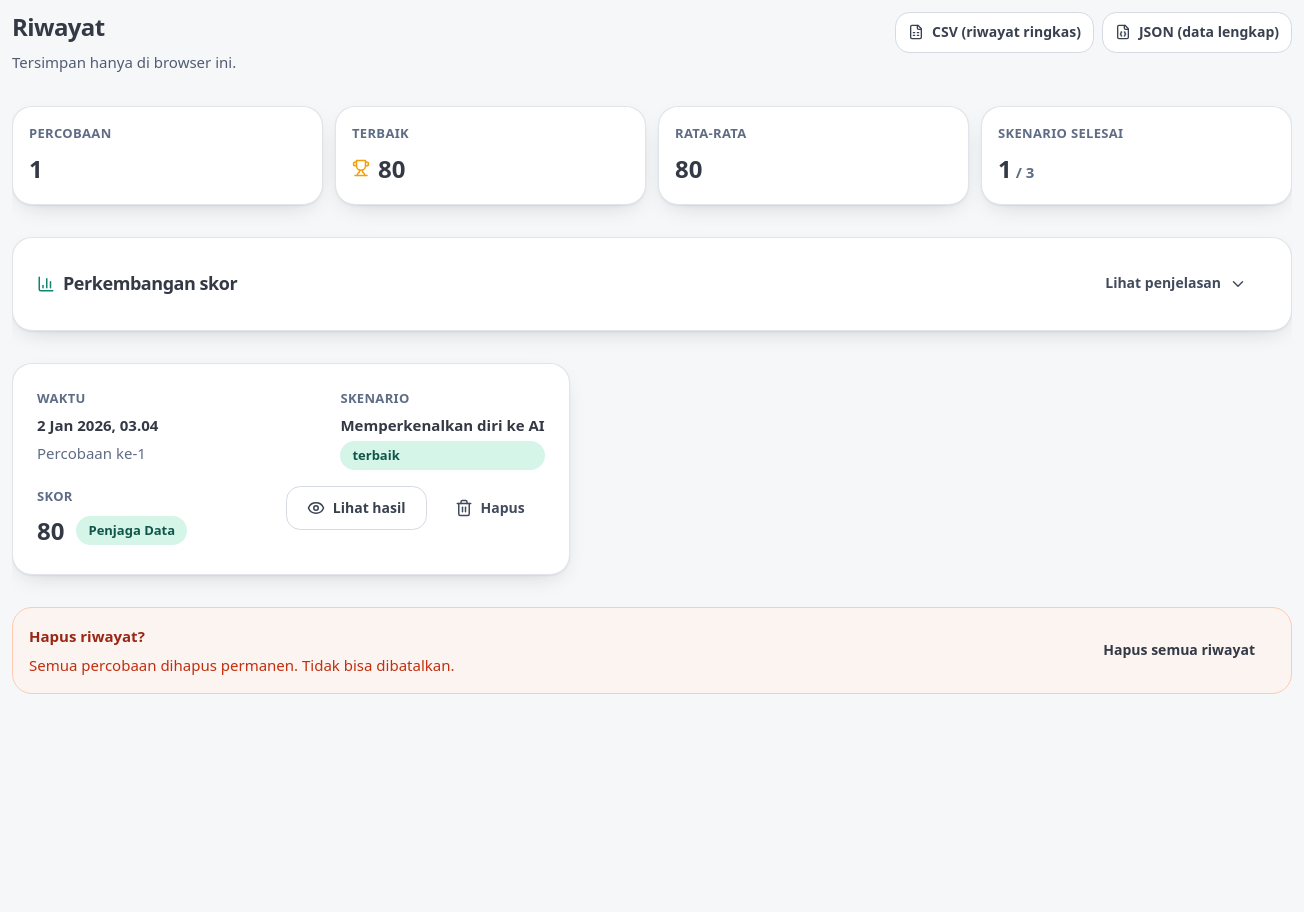
it: HistoryPage — berisi percobaan › meminta konfirmasi dua langkah sebelum menghapus semua riwayat
Click the button "Hapus semua riwayat": (1179, 651) x1=1083 y1=629 x2=1275 y2=673
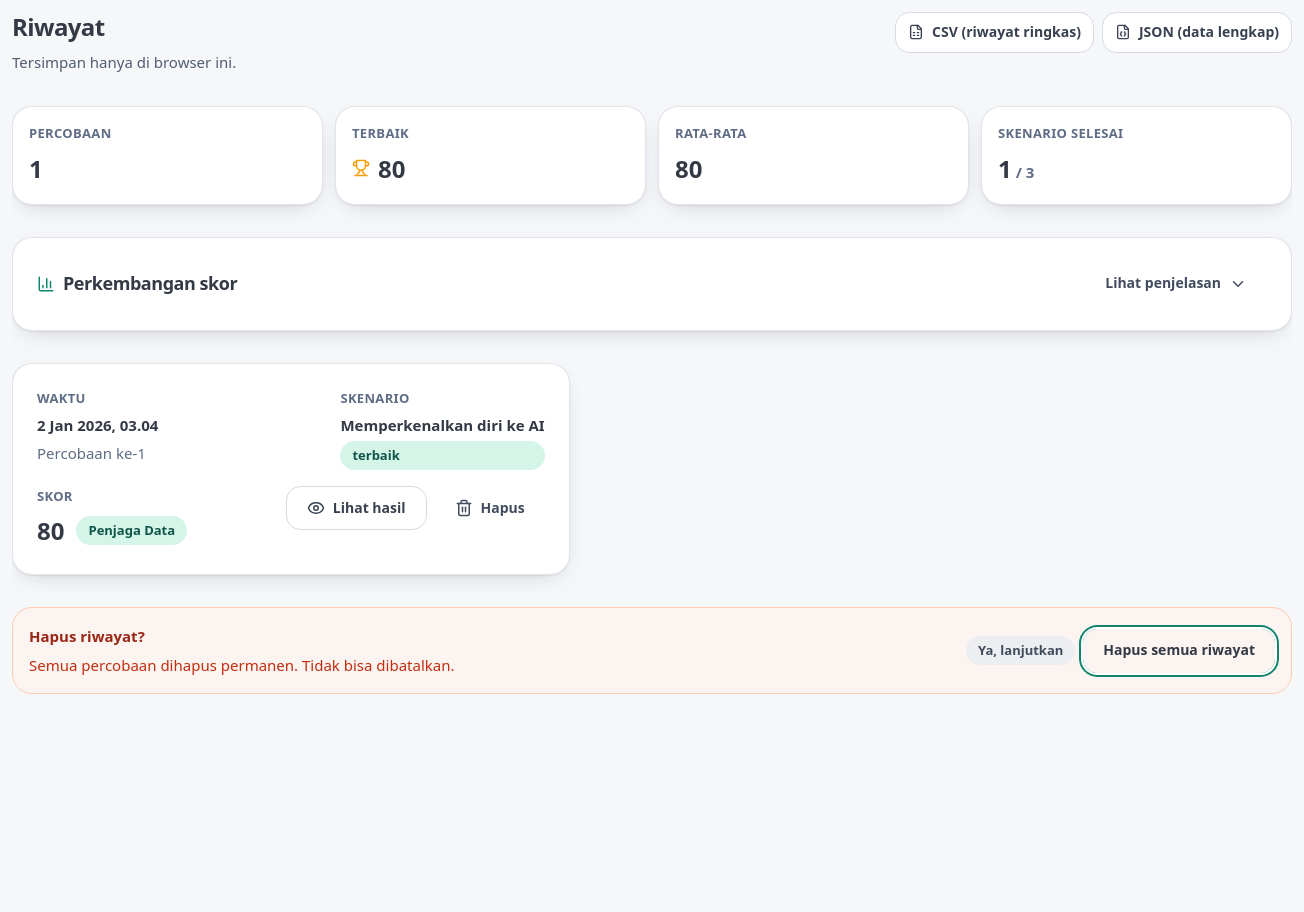
expect the text "Hapus riwayat?" is shown: met, box x1=29 y1=626 x2=145 y2=646
expect the text "Ya, lanjutkan" is shown: met, box x1=966 y1=636 x2=1075 y2=665
Click the button "Hapus semua riwayat": (1179, 651) x1=1083 y1=629 x2=1275 y2=673
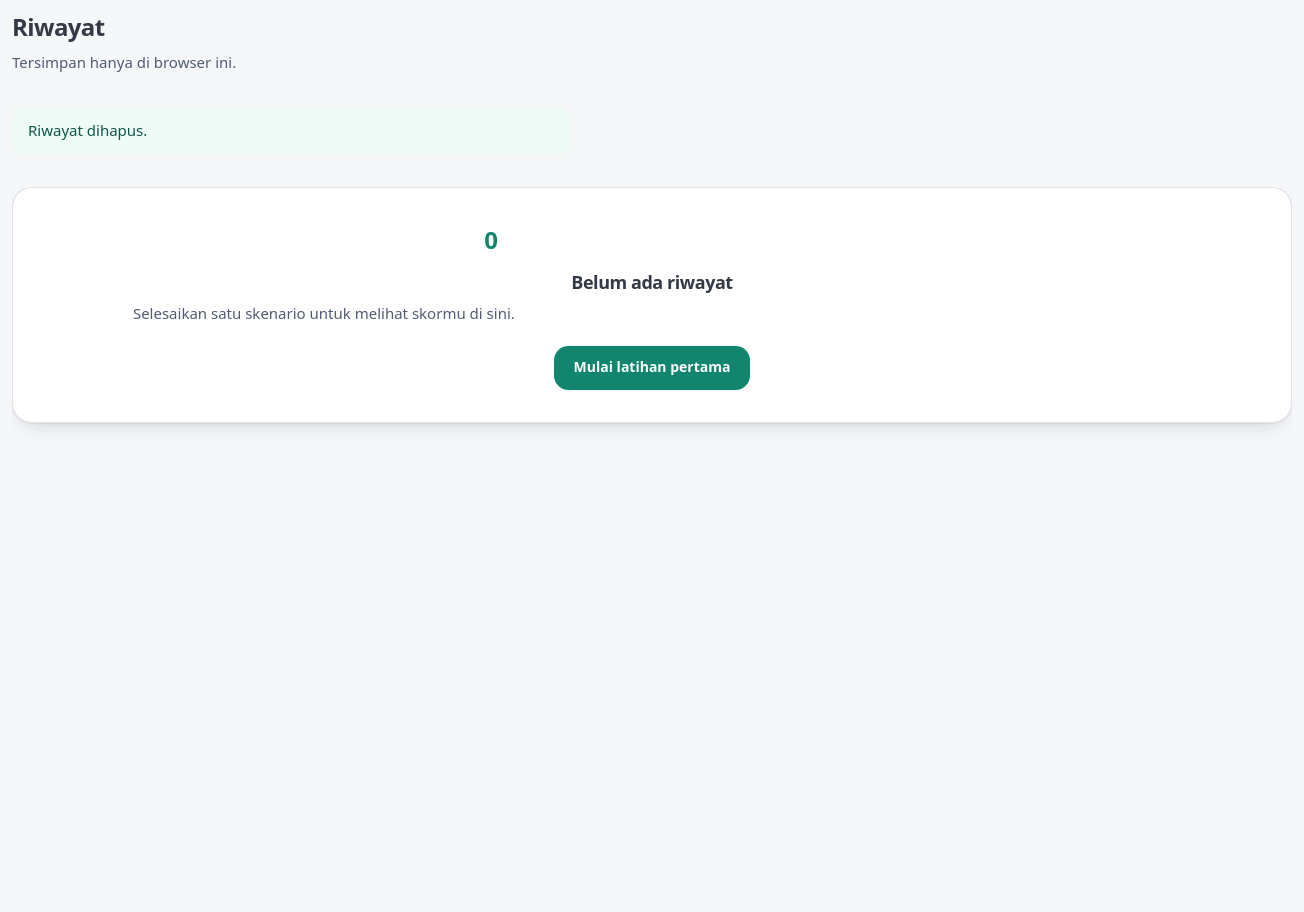
expect the heading "Belum ada riwayat" is shown: met, box x1=571 y1=270 x2=733 y2=294
expect the text "Riwayat dihapus." is shown: met, box x1=12 y1=106 x2=570 y2=155
expect the list "Daftar percobaan" is gone: met
